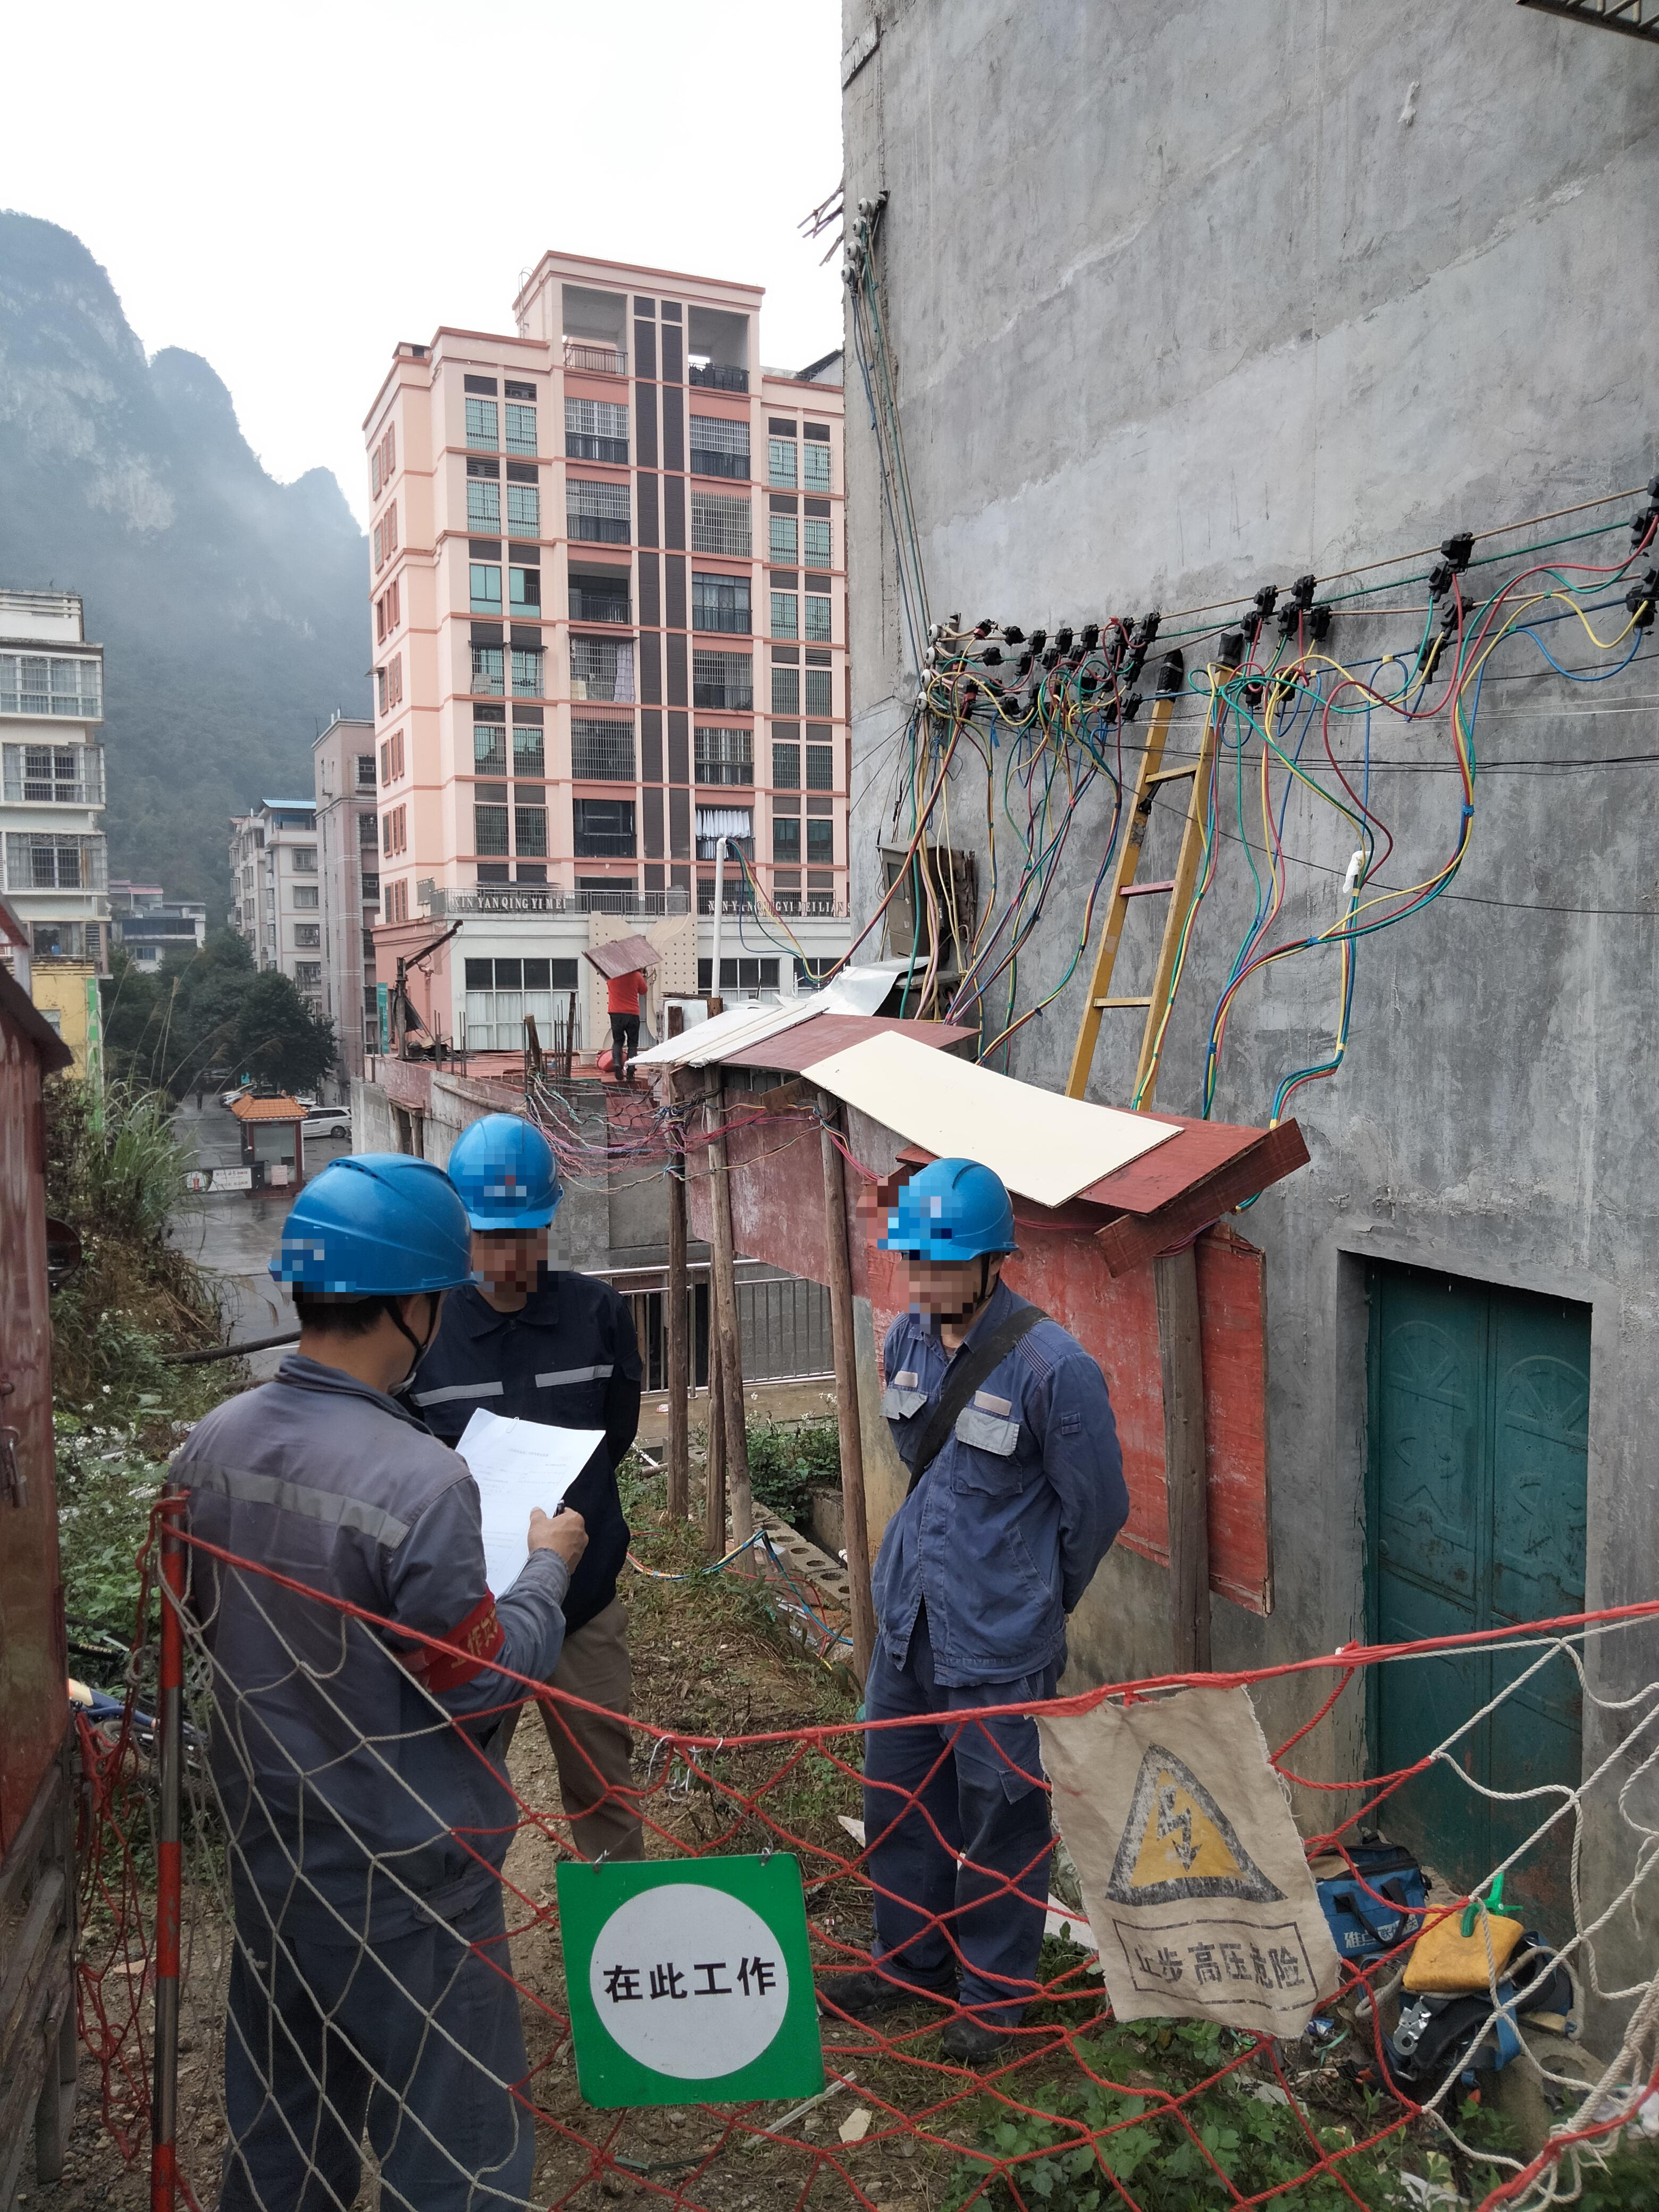halt: (270, 1153, 472, 1381), (882, 1157, 1021, 1313), (450, 1115, 565, 1303)
inear: (369, 1292, 450, 1362)
